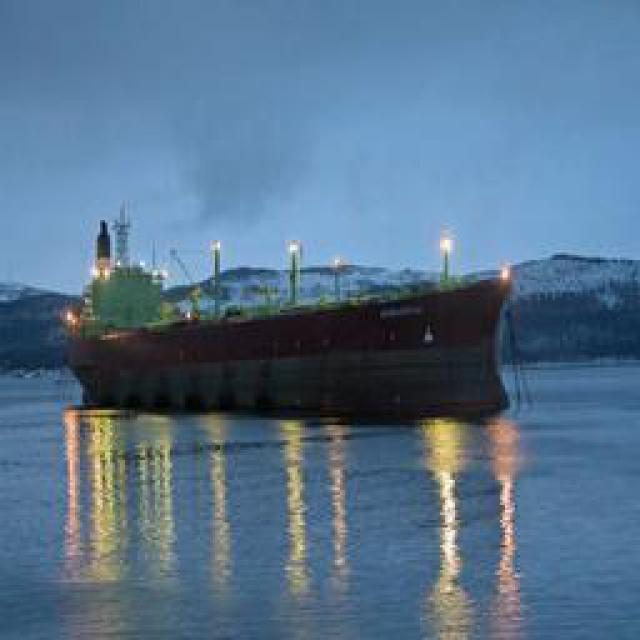Ship: (56, 264, 521, 414)
